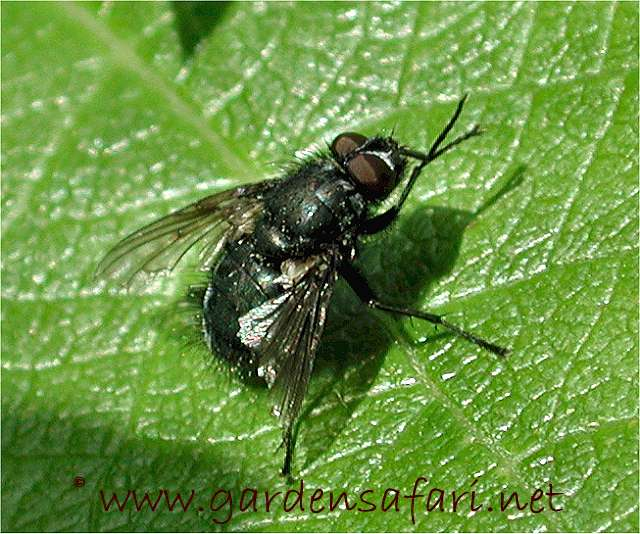green bottles flies: (80, 99, 559, 483)
